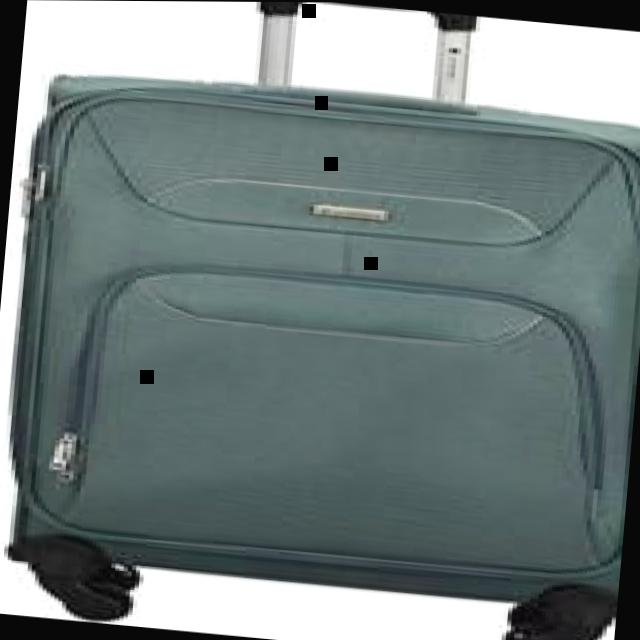luggage: (0, 52, 640, 626)
